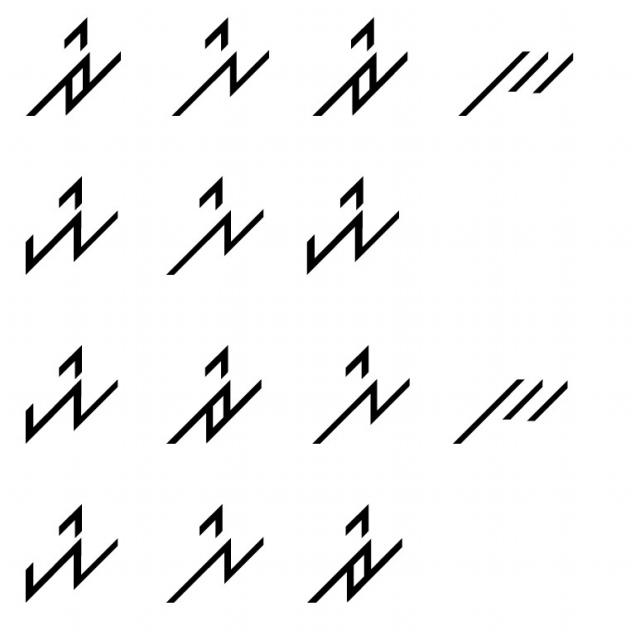li: (156, 170, 274, 286), (164, 499, 271, 618), (172, 14, 274, 123)
ri: (295, 12, 413, 128), (290, 499, 410, 609), (303, 340, 413, 450), (18, 14, 124, 125), (158, 344, 267, 449)
yi: (290, 170, 410, 282), (12, 170, 127, 280), (15, 500, 122, 610), (16, 341, 128, 446)
